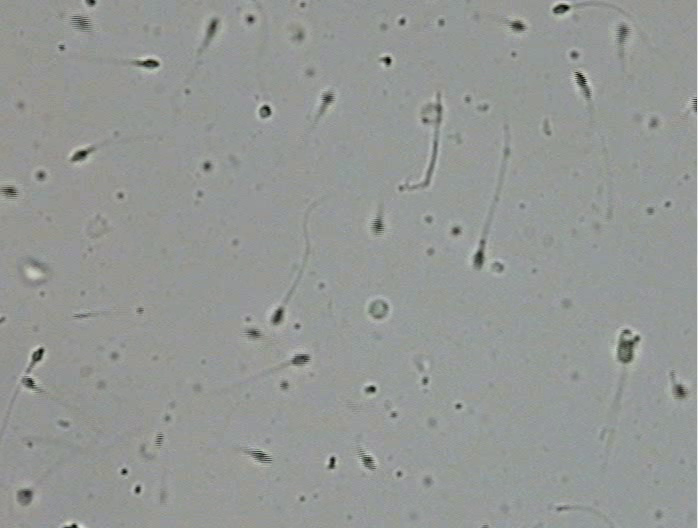Impurity: (366, 299, 390, 320)
S: (617, 329, 635, 363), (250, 448, 272, 464), (70, 15, 91, 31), (360, 452, 376, 471), (370, 218, 385, 236), (616, 23, 629, 42), (473, 250, 485, 270), (1, 185, 19, 198), (17, 489, 32, 504), (272, 307, 284, 325), (321, 91, 335, 106), (672, 384, 687, 398), (552, 3, 571, 14), (510, 20, 526, 33), (574, 71, 587, 87), (71, 149, 88, 161), (21, 376, 36, 389), (292, 354, 311, 364), (207, 19, 218, 36), (140, 59, 160, 68), (32, 347, 44, 362), (244, 328, 261, 338), (259, 105, 272, 118), (691, 96, 697, 112), (85, 1, 95, 6)
